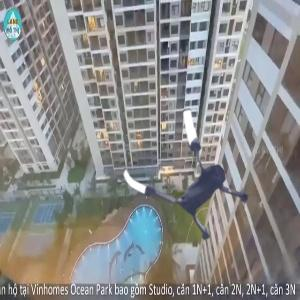drone: (122, 104, 271, 253)
